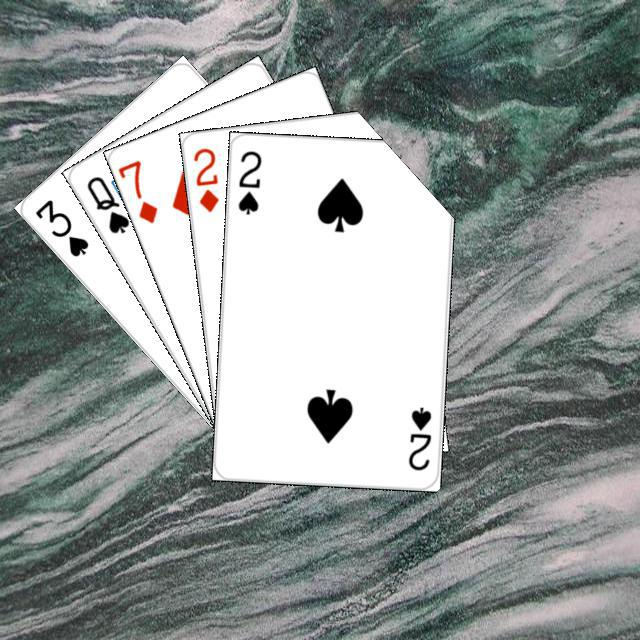2d: (188, 143, 221, 214)
2s: (233, 146, 264, 216), (403, 402, 433, 472)
3s: (30, 194, 91, 259)
7d: (114, 155, 160, 226)
Qs: (81, 171, 131, 236)
